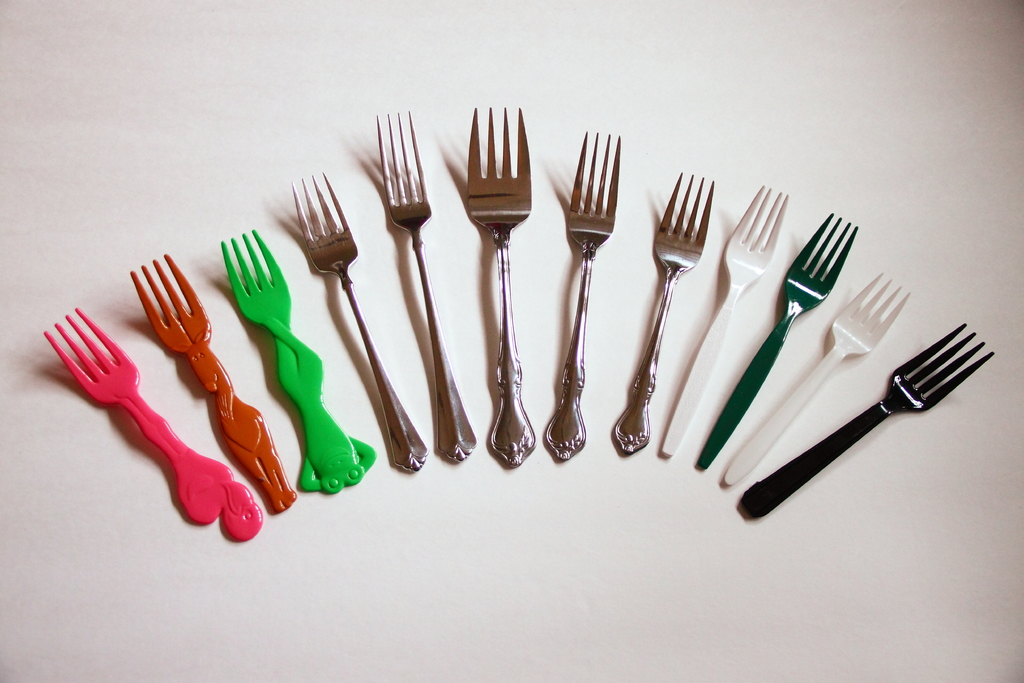fork: (43, 305, 265, 542), (738, 321, 994, 520), (128, 248, 295, 512), (696, 208, 860, 469), (219, 227, 377, 494), (289, 172, 428, 472), (720, 271, 912, 488), (374, 106, 478, 463), (661, 185, 790, 460), (612, 169, 714, 455), (543, 126, 622, 460), (467, 104, 537, 466)
